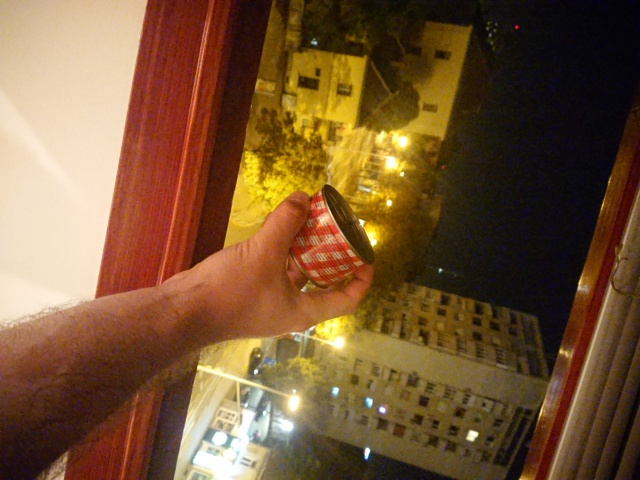Podravka Luncheon Meat 150g: (280, 183, 377, 291)
